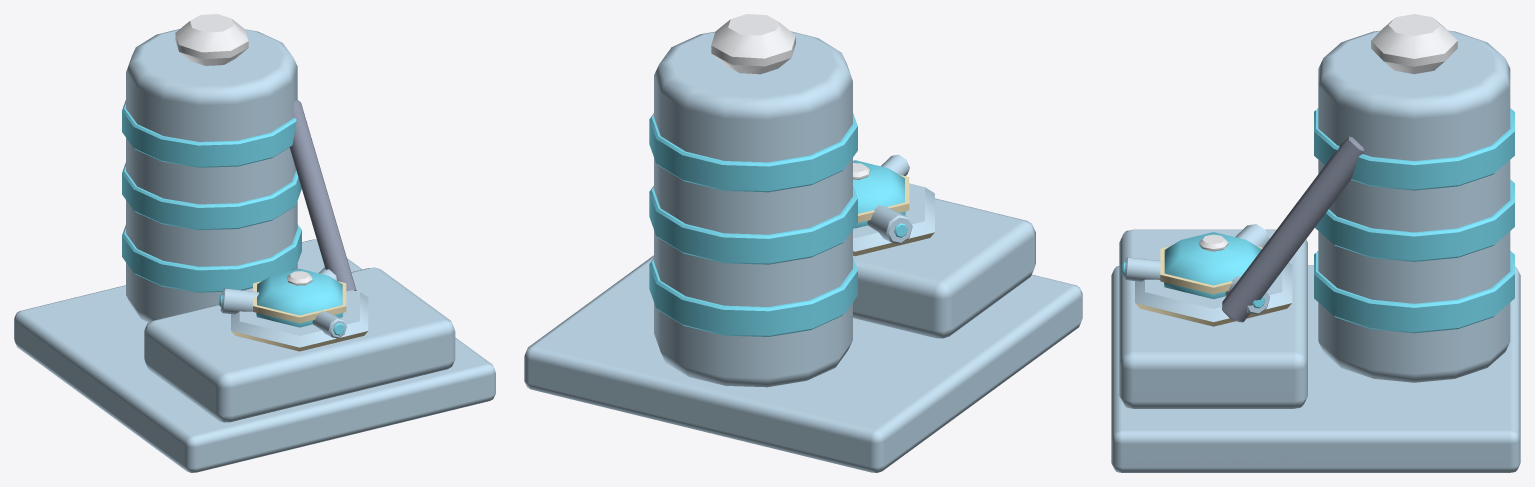
The model's file is R4X_SlowTrapDeployer.fbx.
3 views of the same model, side by side, from view 1: azimuth 30°, elevation 25°; view 2: azimuth 150°, elevation 25°; view 3: azimuth 270°, elevation 25° (orthographic). The views are drawn at different scales.
Visible parts, largest first — view 1: R4X_SlowTrapDeployer_Body, R4X_SlowTrapDeployer_Payload; view 2: R4X_SlowTrapDeployer_Body, R4X_SlowTrapDeployer_Payload; view 3: R4X_SlowTrapDeployer_Body, R4X_SlowTrapDeployer_Payload.
Part boxes in pixels (box(x1,y1,x2,y2)): R4X_SlowTrapDeployer_Body: box(14, 14, 495, 472); R4X_SlowTrapDeployer_Payload: box(219, 267, 368, 351); R4X_SlowTrapDeployer_Body: box(524, 14, 1082, 472); R4X_SlowTrapDeployer_Payload: box(853, 154, 934, 256); R4X_SlowTrapDeployer_Body: box(1111, 14, 1520, 472); R4X_SlowTrapDeployer_Payload: box(1121, 224, 1292, 326).
Bounding box in the file's own units: 0.52 × 0.5125 × 0.52.
